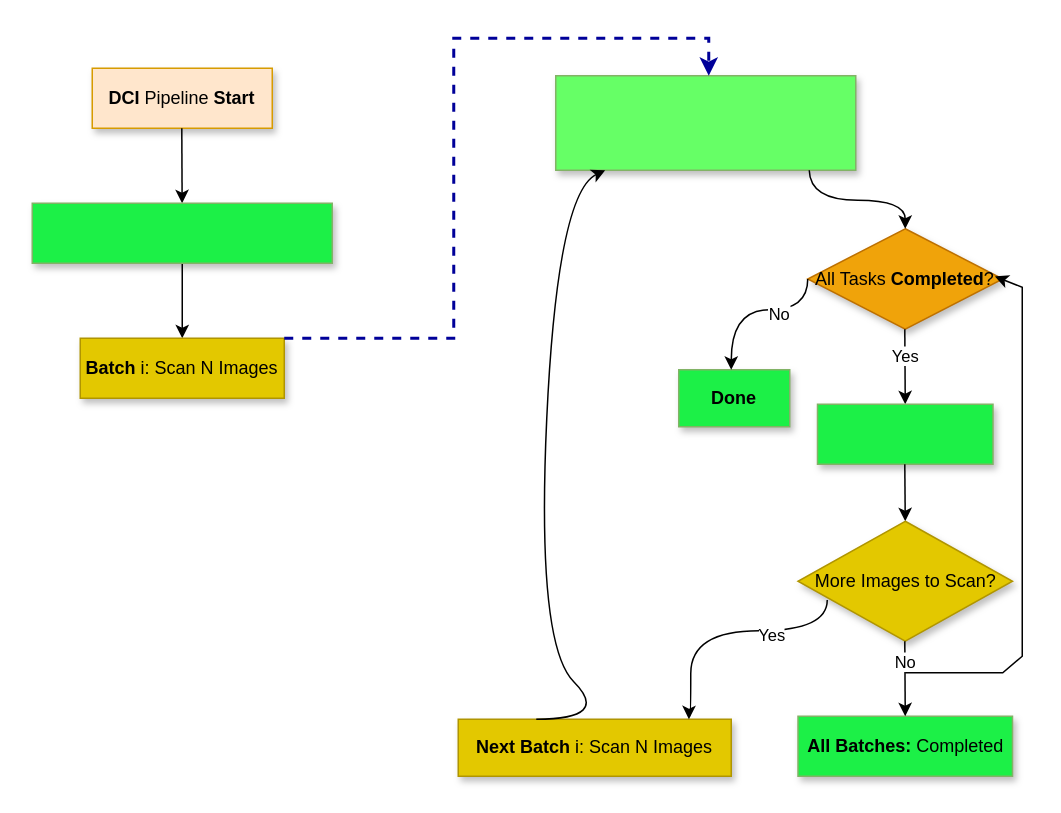
Some shapes in this 1061 by 813 pixel diagram are drawn without their labels. Here are the shapes that lost their labels. From the top down, the centre of each, then its label:
At (x=706, y=124): "Check Back async tasks with asysnc_status (until job_result. finished )".
At (x=183, y=235): "Preflight Scan Task Initialize ( async : 600, poll : 0)".
At (x=906, y=436): "Batch i Completed".
